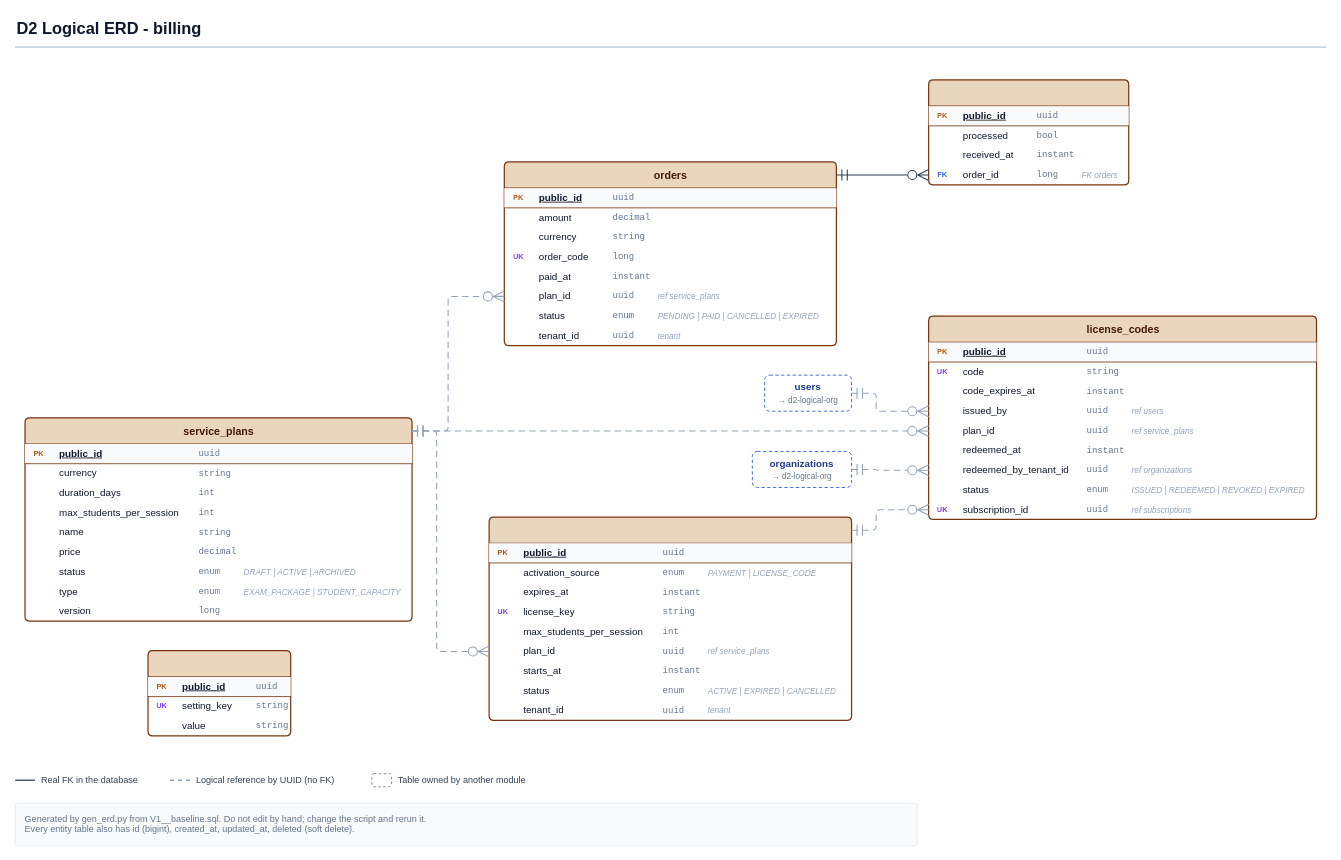
The diagram is 1341 pixels wide and 860 high, and some of its shapes have lost their labels. Each missing label, with the box of its shape:
order_payments: (928, 79, 1129, 185)
platform_settings: (147, 650, 291, 736)
subscriptions: (488, 516, 852, 721)
